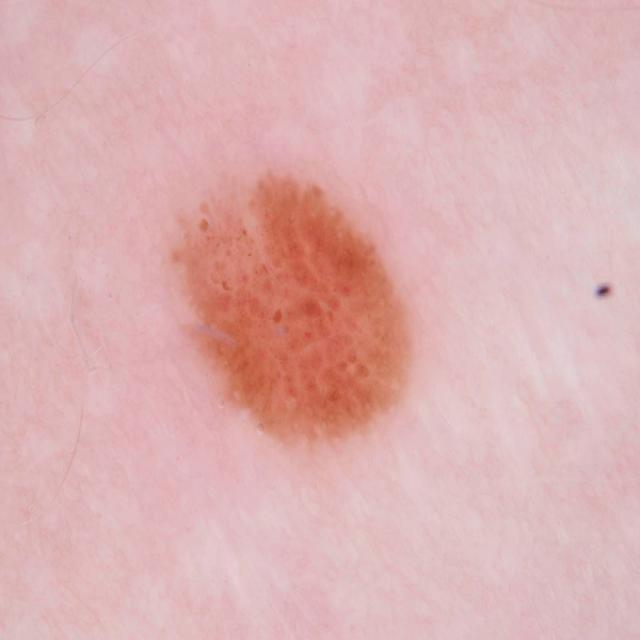NV: (165, 168, 416, 451)
